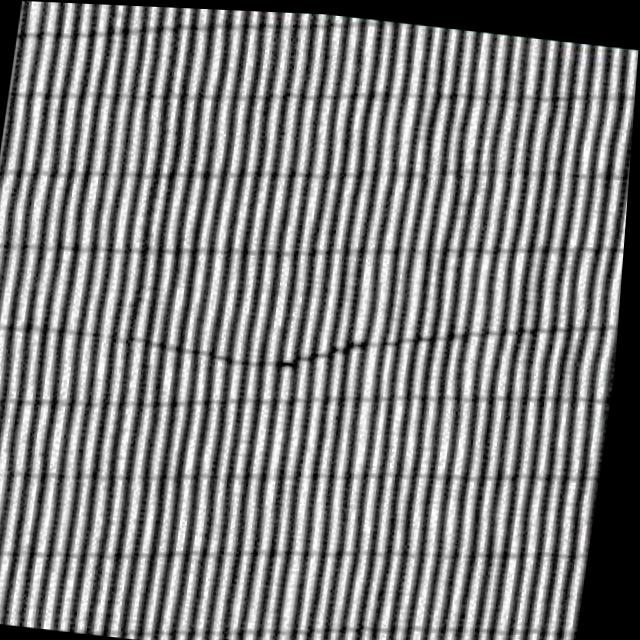Stitch: (218, 258, 562, 422)
